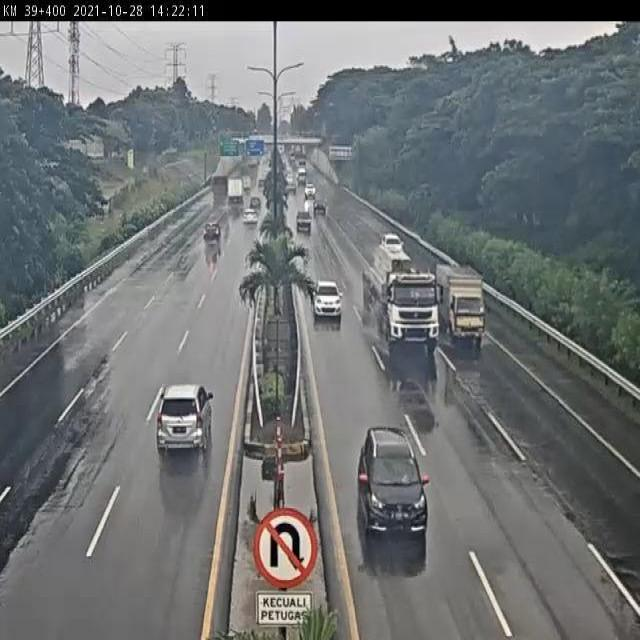car: (358, 426, 430, 534), (155, 381, 215, 456), (311, 279, 343, 320), (202, 221, 224, 243), (381, 232, 402, 248)
truck-l-: (362, 247, 439, 352)
truck-s-: (435, 264, 487, 345)
